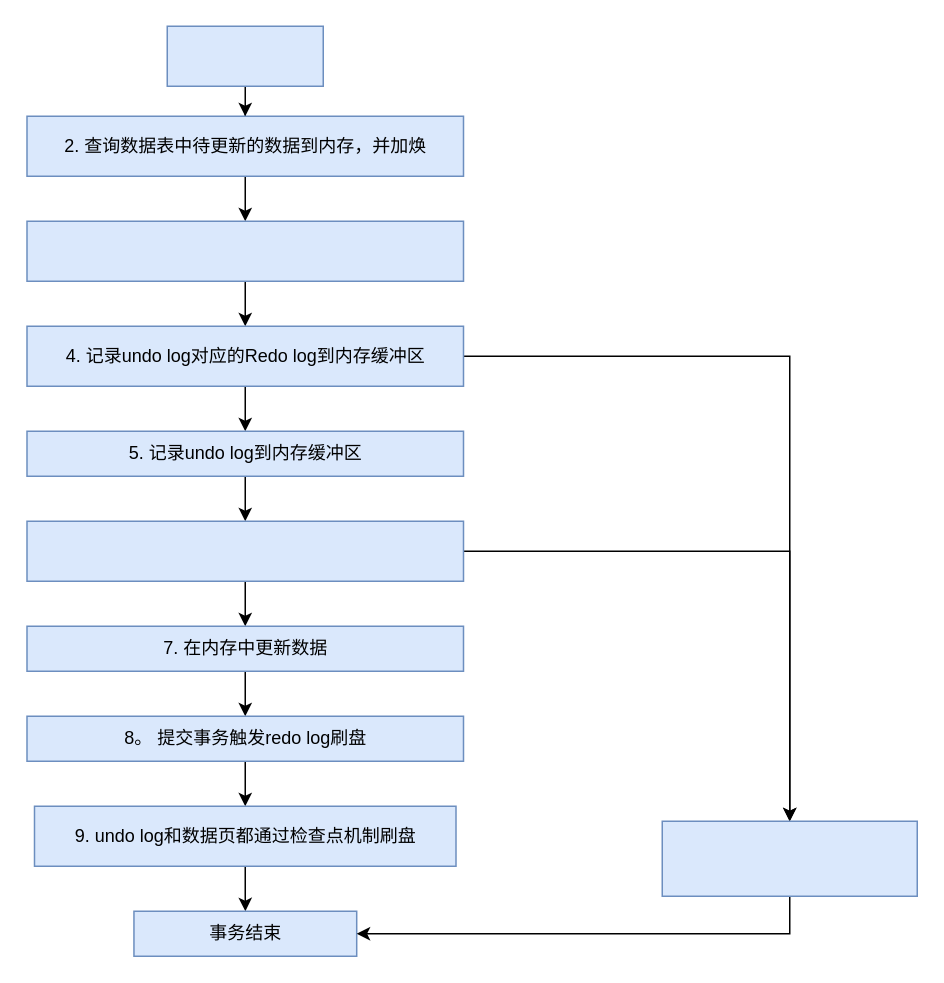
Image size: 944x983. Some labels were removed from this diagram. Here are the shapes that lost their labels. From the top down, the centre of each, then its label:
At point (244, 55): "1. 开始事务".
At point (245, 250): "3. 将缓存的数据加载到innodB缓存区（通过innodb_log_buffer设置的缓冲区）".
At point (245, 550): "6. 记录更新数据对应的redo log到内存缓冲区".
At point (789, 858): "Redo log每秒刷盘".
